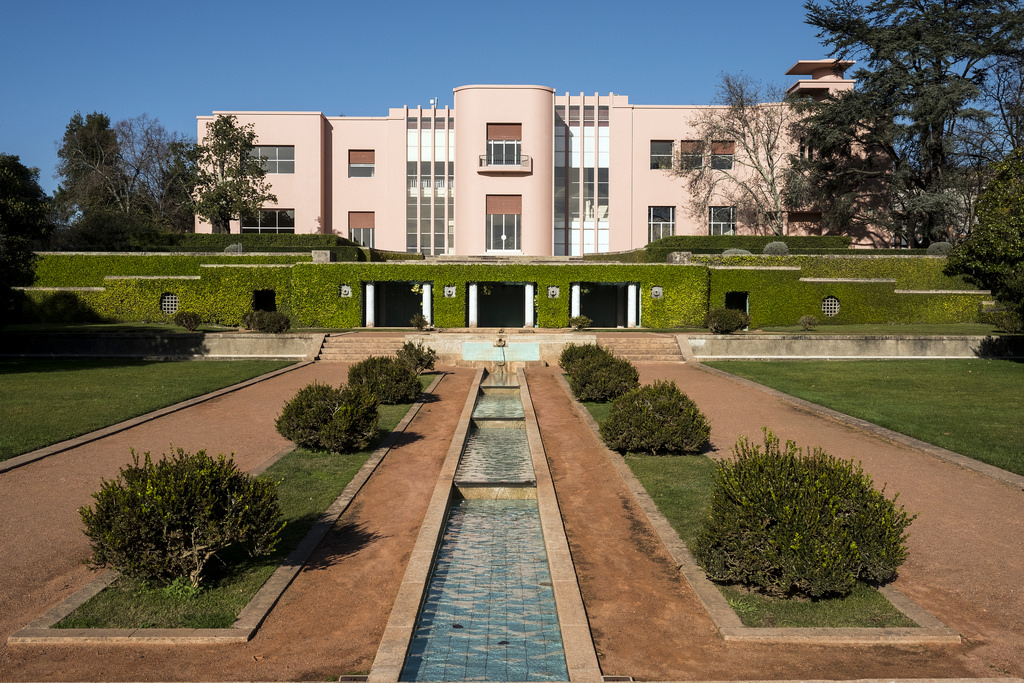serralves: (186, 57, 903, 258)
